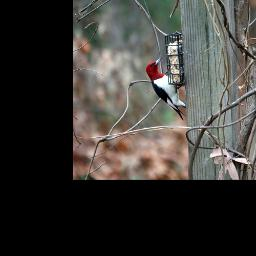Woodpecker: (142, 54, 191, 123)
